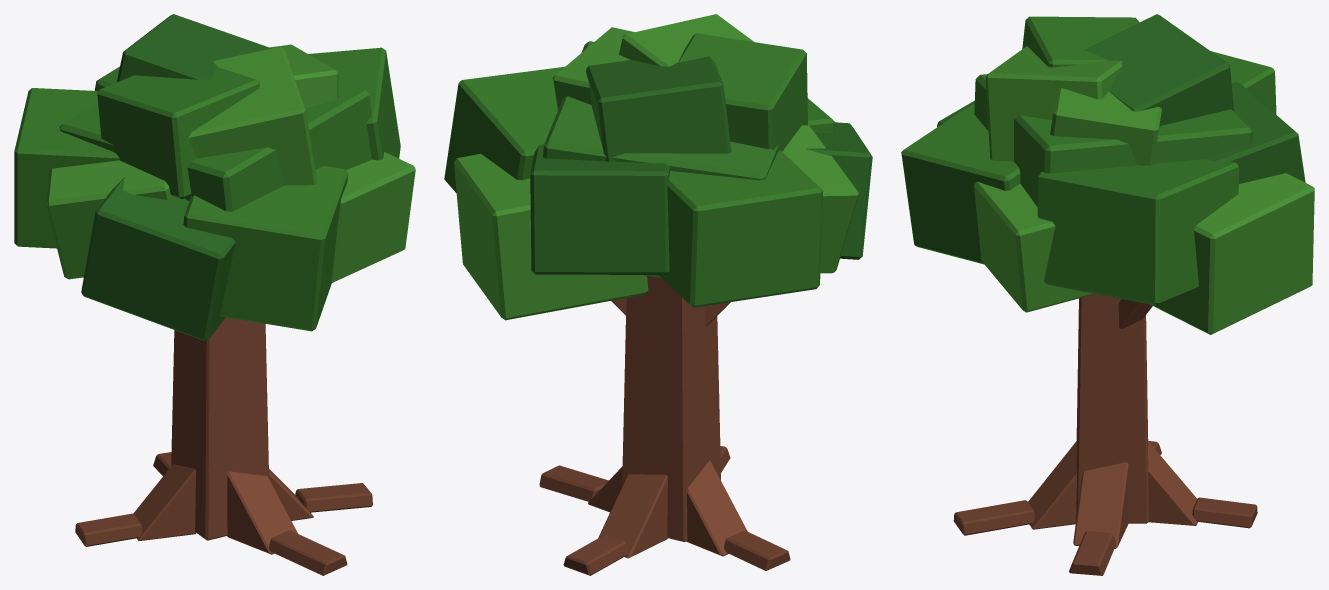
The model's file is oak.glb.
3 renders of one model, left to right at view 1: azimuth 30°, elevation 25°; view 2: azimuth 150°, elevation 25°; view 3: azimuth 270°, elevation 25°, orthographic. The views are drawn at different scales.
Visible parts, largest first — view 1: Grass__347826, Grass__428C2E, Wood__7A4630, Grass__2A6622, Wood__6A3C2A; view 2: Grass__347826, Grass__2A6622, Wood__7A4630, Grass__428C2E, Wood__6A3C2A; view 3: Grass__347826, Grass__428C2E, Wood__7A4630, Grass__2A6622, Wood__6A3C2A.
Part boxes in pixels (x1,y1,x2,y2): Grass__347826: (14,47,400,331); Grass__428C2E: (46,44,415,282); Wood__7A4630: (133,317,313,554); Grass__2A6622: (81,14,271,340); Wood__6A3C2A: (75,452,372,575); Grass__347826: (444,33,835,307); Grass__2A6622: (530,56,872,274); Wood__7A4630: (588,276,747,558); Grass__428C2E: (454,14,859,320); Wood__6A3C2A: (539,446,790,575); Grass__347826: (901,16,1276,305); Grass__428C2E: (974,46,1314,334); Wood__7A4630: (1028,294,1197,548); Grass__2A6622: (937,14,1305,183); Wood__6A3C2A: (953,441,1257,575).
Size of the model in its own units: 29.43 by 34.87 by 28.17.
